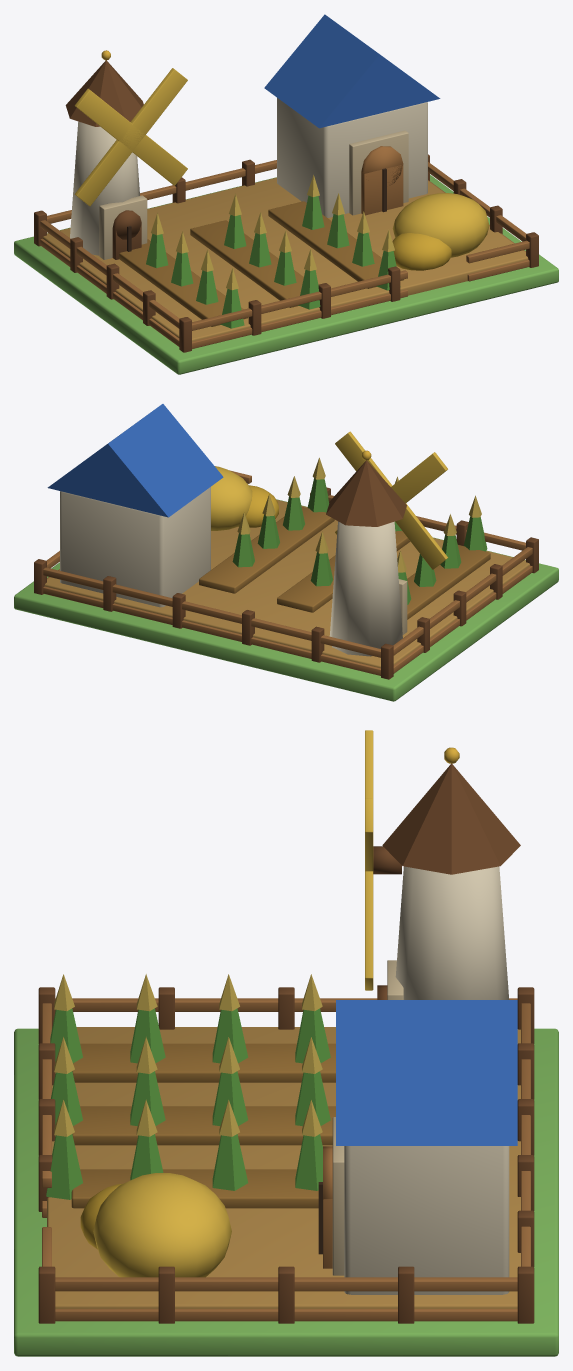
File: k_farm.glb
3 renders of one model, top to bottom at view 1: azimuth 30°, elevation 25°; view 2: azimuth 150°, elevation 25°; view 3: azimuth 270°, elevation 25°, orthographic. The views are drawn at different scales.
Visible parts, largest first — view 1: SK_k_farm; view 2: SK_k_farm; view 3: SK_k_farm.
Part boxes in pixels (<box>): SK_k_farm: <box>14,14,558,374</box>; SK_k_farm: <box>14,404,558,701</box>; SK_k_farm: <box>14,730,558,1356</box>.
Bounding box in the file's own units: 4.4 × 2.35 × 3.3.
